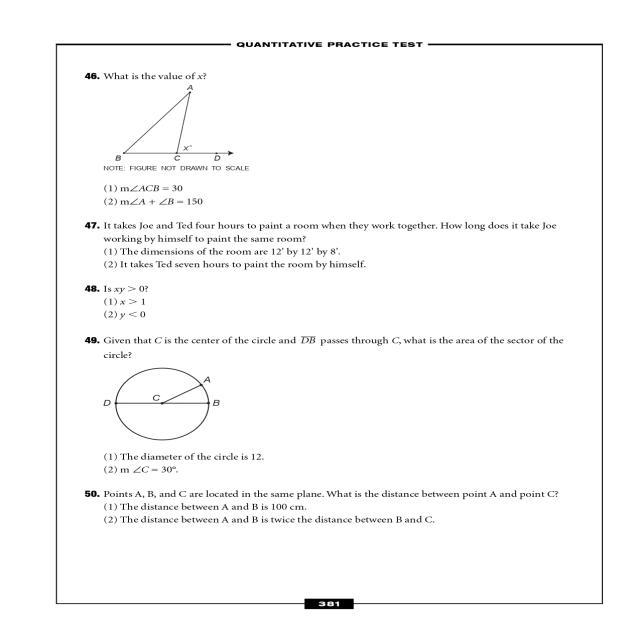Question_Answer_Block: (67, 58, 591, 210), (67, 330, 591, 480), (67, 212, 591, 278), (67, 478, 591, 542), (67, 274, 591, 329)
Question_Block: (67, 58, 591, 210), (67, 330, 591, 480), (67, 212, 591, 278), (67, 478, 591, 542), (67, 276, 591, 329)
Question_Paper_Area: (67, 59, 591, 574)
